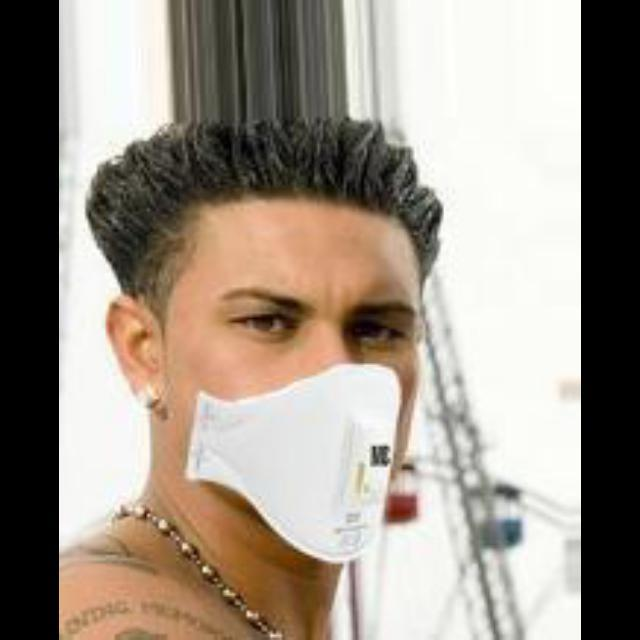suspicion: (152, 179, 488, 595)
